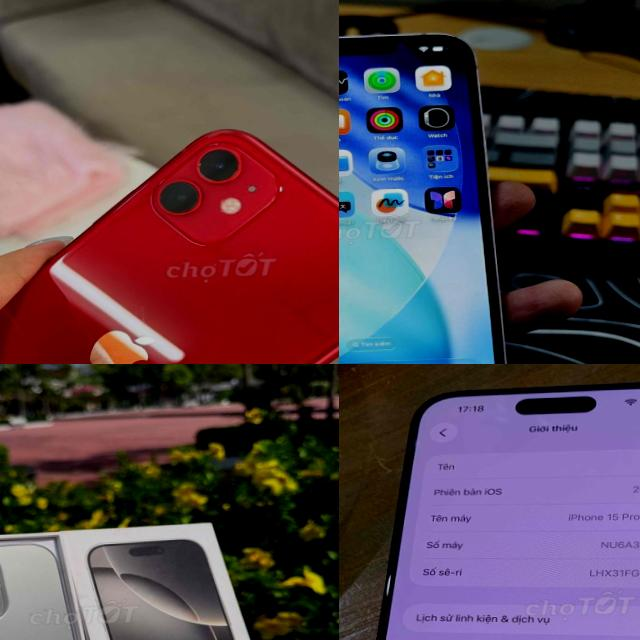gen_11: (0, 114, 339, 364)
gen_14: (339, 23, 507, 364)
gen_15: (345, 366, 640, 640)
